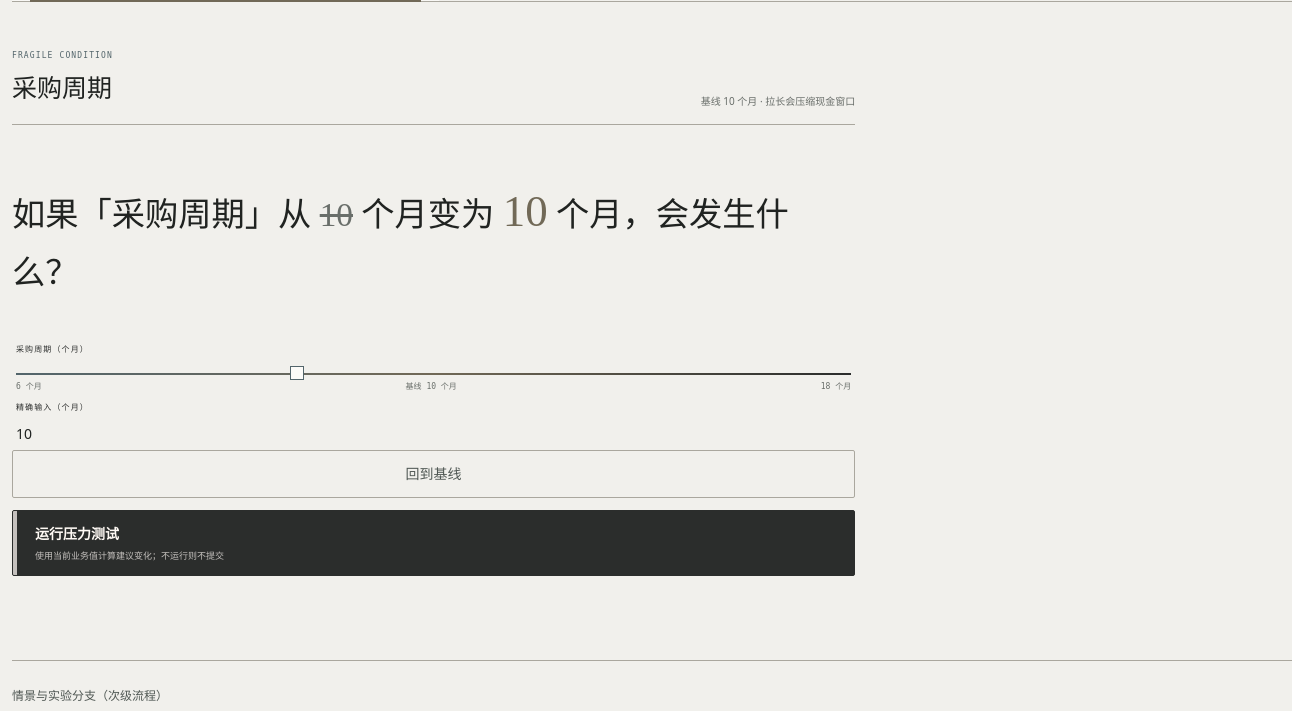
Test case: QA-A6 hostile wire payload resilience › ok envelope without data degrades to the generic honest error, no crash, no fake result
(page scrolled)
Click the button "运行压力测试 使用当前业务值计算建议变化；不运行则不提交".
click(77, 534)  # box [12,510,855,576]
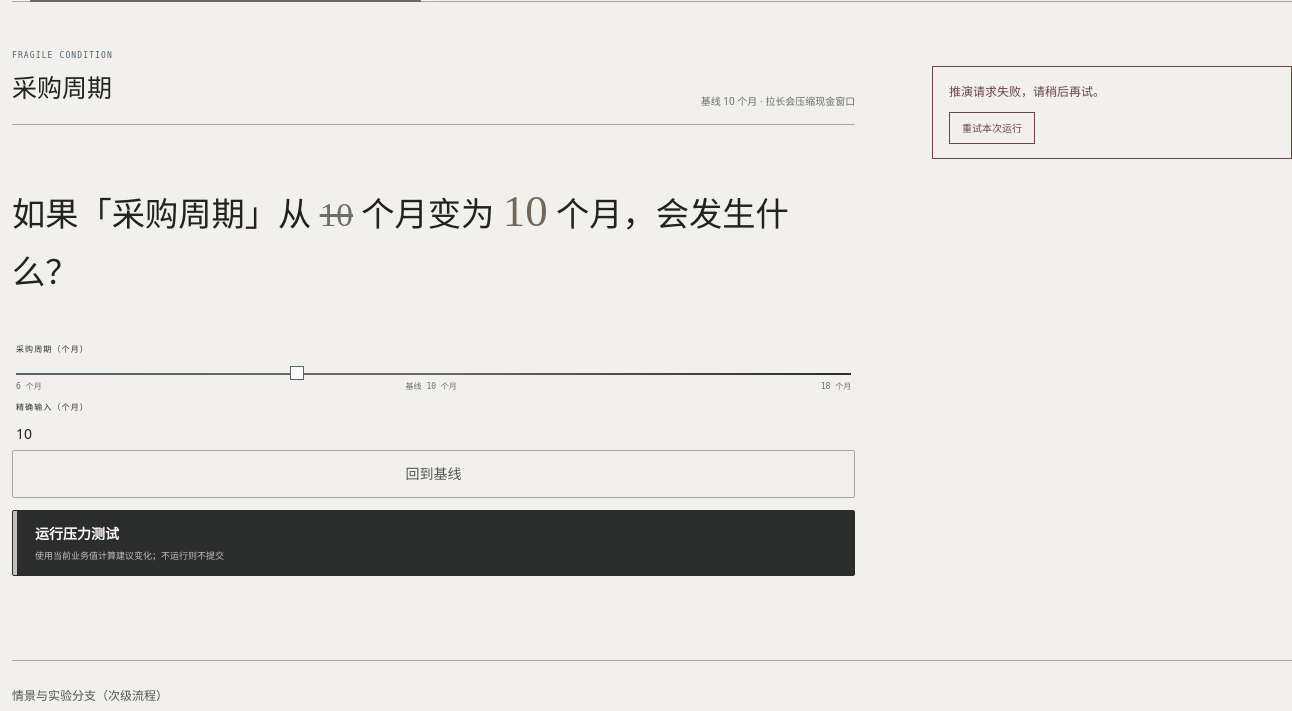
Expected: the message shows "推演请求失败，请稍后再试。", [949,83,1105,100]
